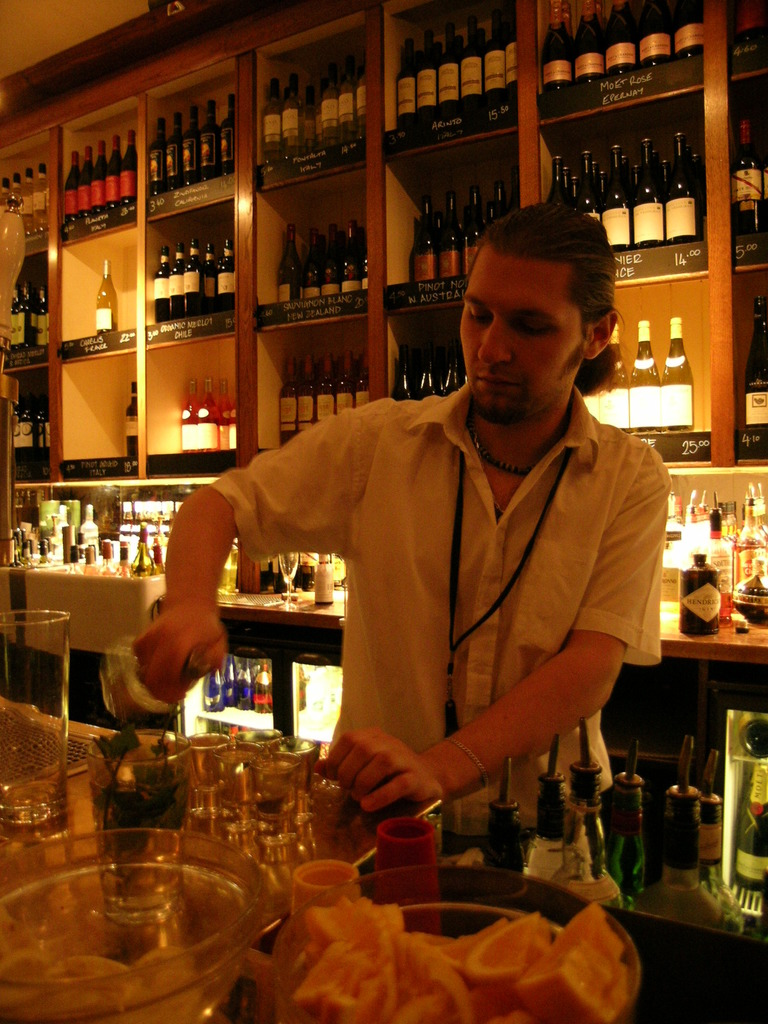Person: (131, 203, 671, 855)
